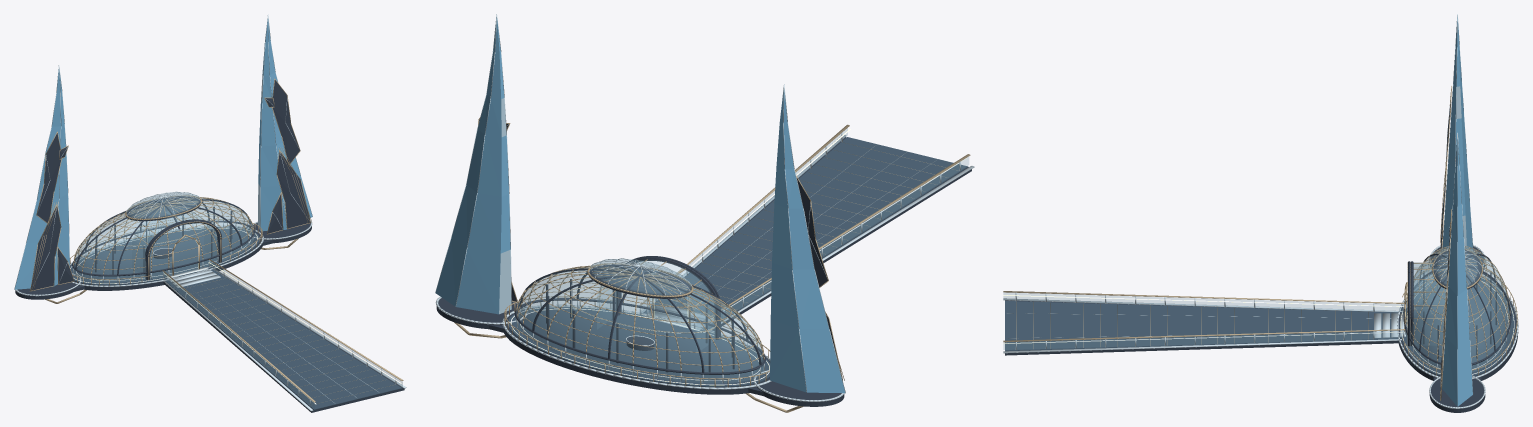
Rendered from observatory.glb.
3 views of the same model, side by side, from view 1: azimuth 30°, elevation 25°; view 2: azimuth 150°, elevation 25°; view 3: azimuth 270°, elevation 25° (orthographic). The views are drawn at different scales.
Parts seen in each view (by area): view 1: Floor, Titanium, Glazing, Champagne, Ice, Silver, WarmLight; view 2: Floor, Ice, Glazing, Titanium, Champagne, Silver, WarmLight, IcePale; view 3: Floor, Glazing, Ice, Titanium, Champagne, Silver, WarmLight.
Boxes of the visible parts, box(x1,y1,x2,y2) form: Floor: box(70, 226, 401, 409); Titanium: box(15, 80, 404, 412); Glazing: box(74, 192, 402, 408); Champagne: box(29, 78, 403, 405); Ice: box(14, 19, 312, 289); Silver: box(14, 14, 406, 411); WarmLight: box(70, 211, 401, 404); Floor: box(508, 137, 968, 387); Ice: box(435, 17, 845, 393); Glazing: box(516, 128, 968, 382); Titanium: box(436, 119, 971, 406); Champagne: box(454, 117, 970, 412); Silver: box(435, 14, 974, 401); WarmLight: box(510, 129, 967, 385); IcePale: box(499, 98, 511, 314); Floor: box(1005, 277, 1515, 376); Glazing: box(1003, 247, 1509, 371); Ice: box(1442, 17, 1472, 406); Titanium: box(1005, 100, 1518, 412); Champagne: box(1003, 86, 1517, 400); Silver: box(1003, 14, 1518, 408); WarmLight: box(1003, 277, 1514, 374).
Bounding box in the file's own units: 31.05 × 22.82 × 39.85.
